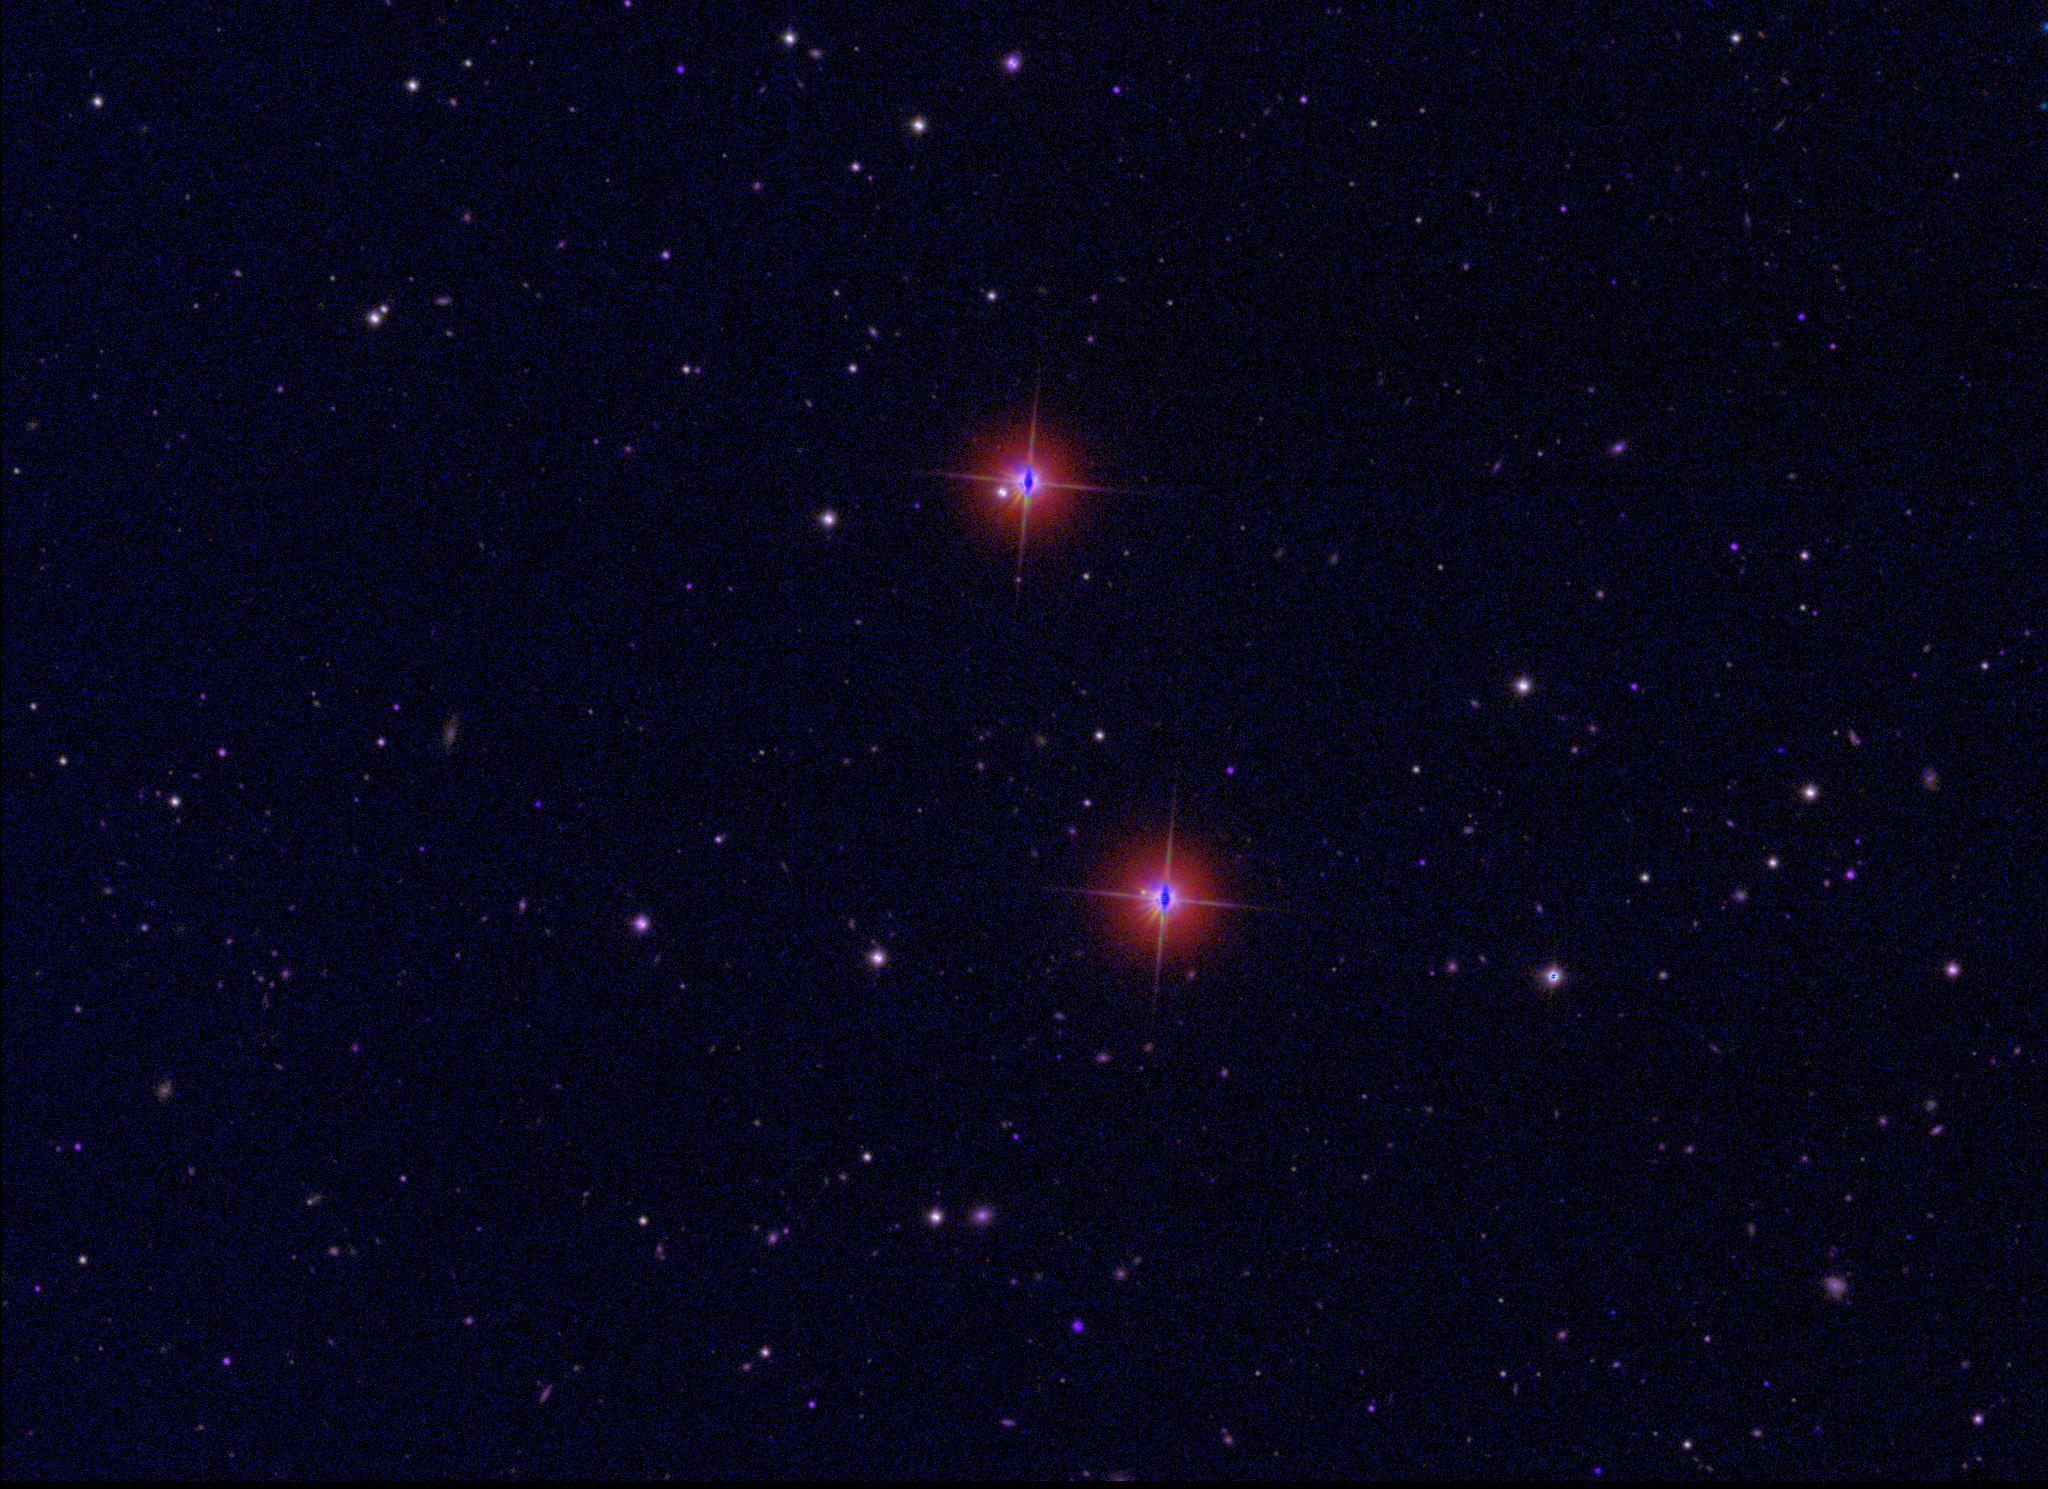L: (1773, 744, 1787, 759)
